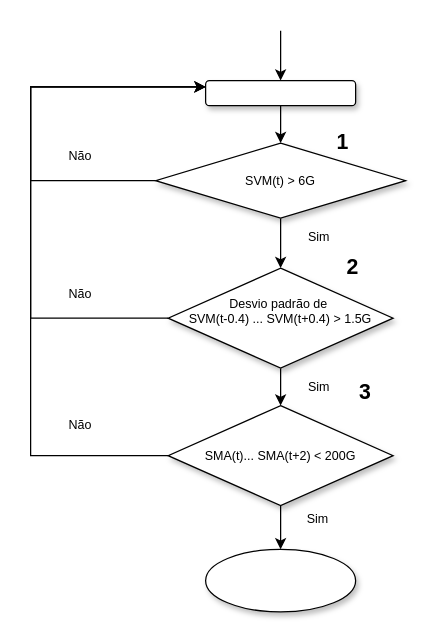
Some shapes in this 435 by 643 pixel diagram are drawn without their labels. The shapes that lost their labels are listed below. From the top down, each one's centre as x and y in pixels, then its label:
At point (281, 94): "Coletando Dados".
At point (281, 582): "Evento de queda detectado".
